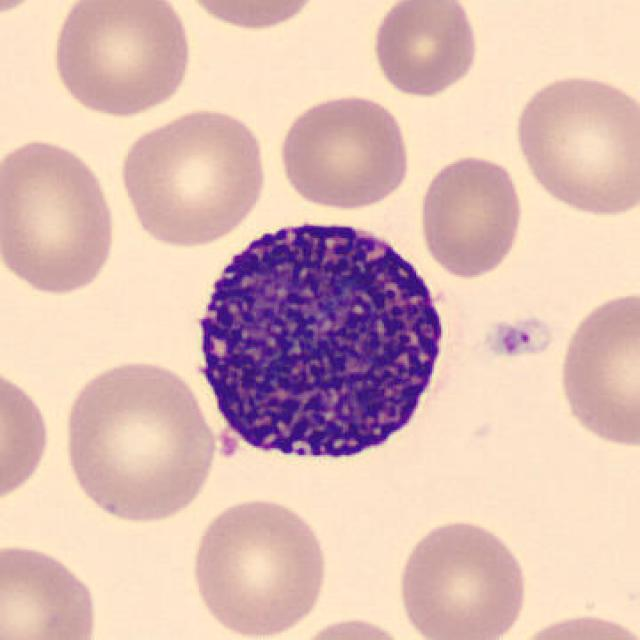Basophil: (178, 202, 460, 480)
Platelets: (480, 316, 551, 362)
RBC: (57, 354, 220, 528), (116, 104, 272, 250), (185, 492, 332, 640), (0, 134, 121, 300), (508, 69, 638, 220), (46, 0, 196, 120), (393, 515, 531, 640), (274, 90, 414, 213), (416, 152, 526, 280), (555, 286, 638, 451), (368, 0, 482, 99), (0, 537, 103, 640), (0, 359, 53, 511), (174, 0, 325, 33), (508, 608, 638, 640), (286, 613, 417, 640), (0, 0, 58, 19)
